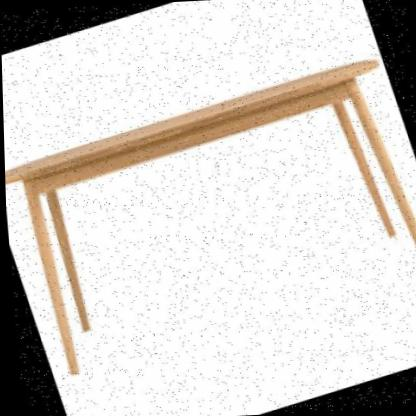Table: (1, 35, 416, 388)
